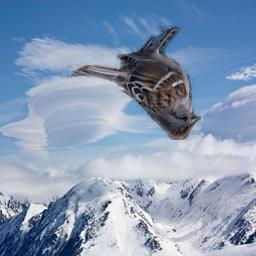Sparrow: (71, 25, 201, 140)
